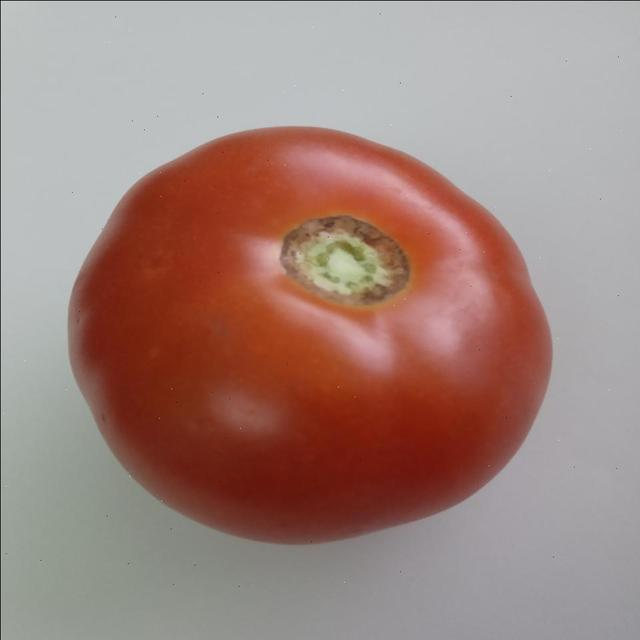Healthy Fruit: (37, 75, 374, 370)
